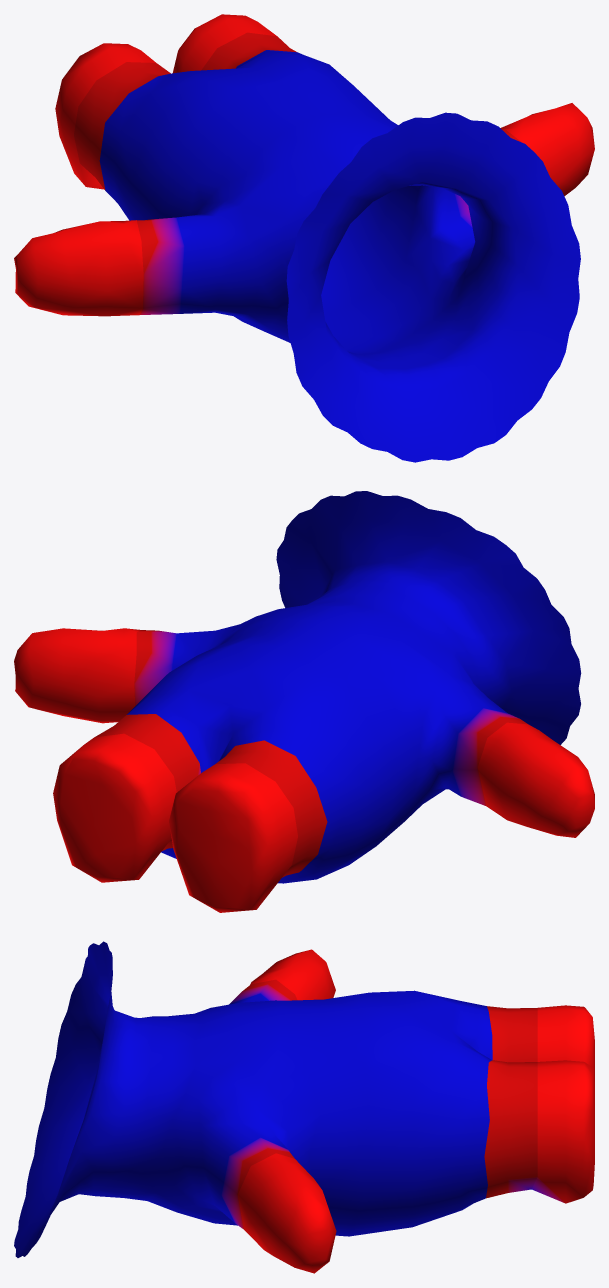
The picture shows the model from 3 angles, top to bottom: view 1: azimuth 30°, elevation 25°; view 2: azimuth 150°, elevation 25°; view 3: azimuth 270°, elevation 25°; orthographic projection. The views are drawn at different scales.
Visible parts, largest first — view 1: PolybrushMesh_342344; view 2: PolybrushMesh_342344; view 3: PolybrushMesh_342344.
Part boxes in pixels (box(x1,y1,x2,y2)): PolybrushMesh_342344: box(14, 14, 594, 462); PolybrushMesh_342344: box(14, 491, 594, 912); PolybrushMesh_342344: box(14, 941, 594, 1273).
Bounding box in the file's own units: 6.41 × 3.21 × 5.81.
